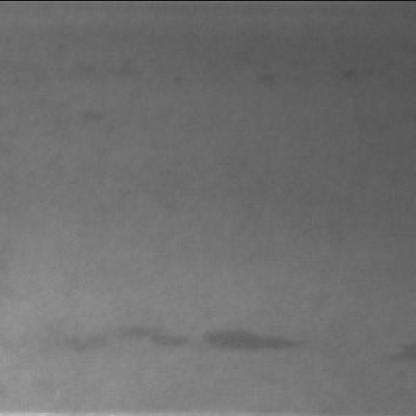inclusion: (54, 318, 198, 364), (192, 322, 312, 362)
